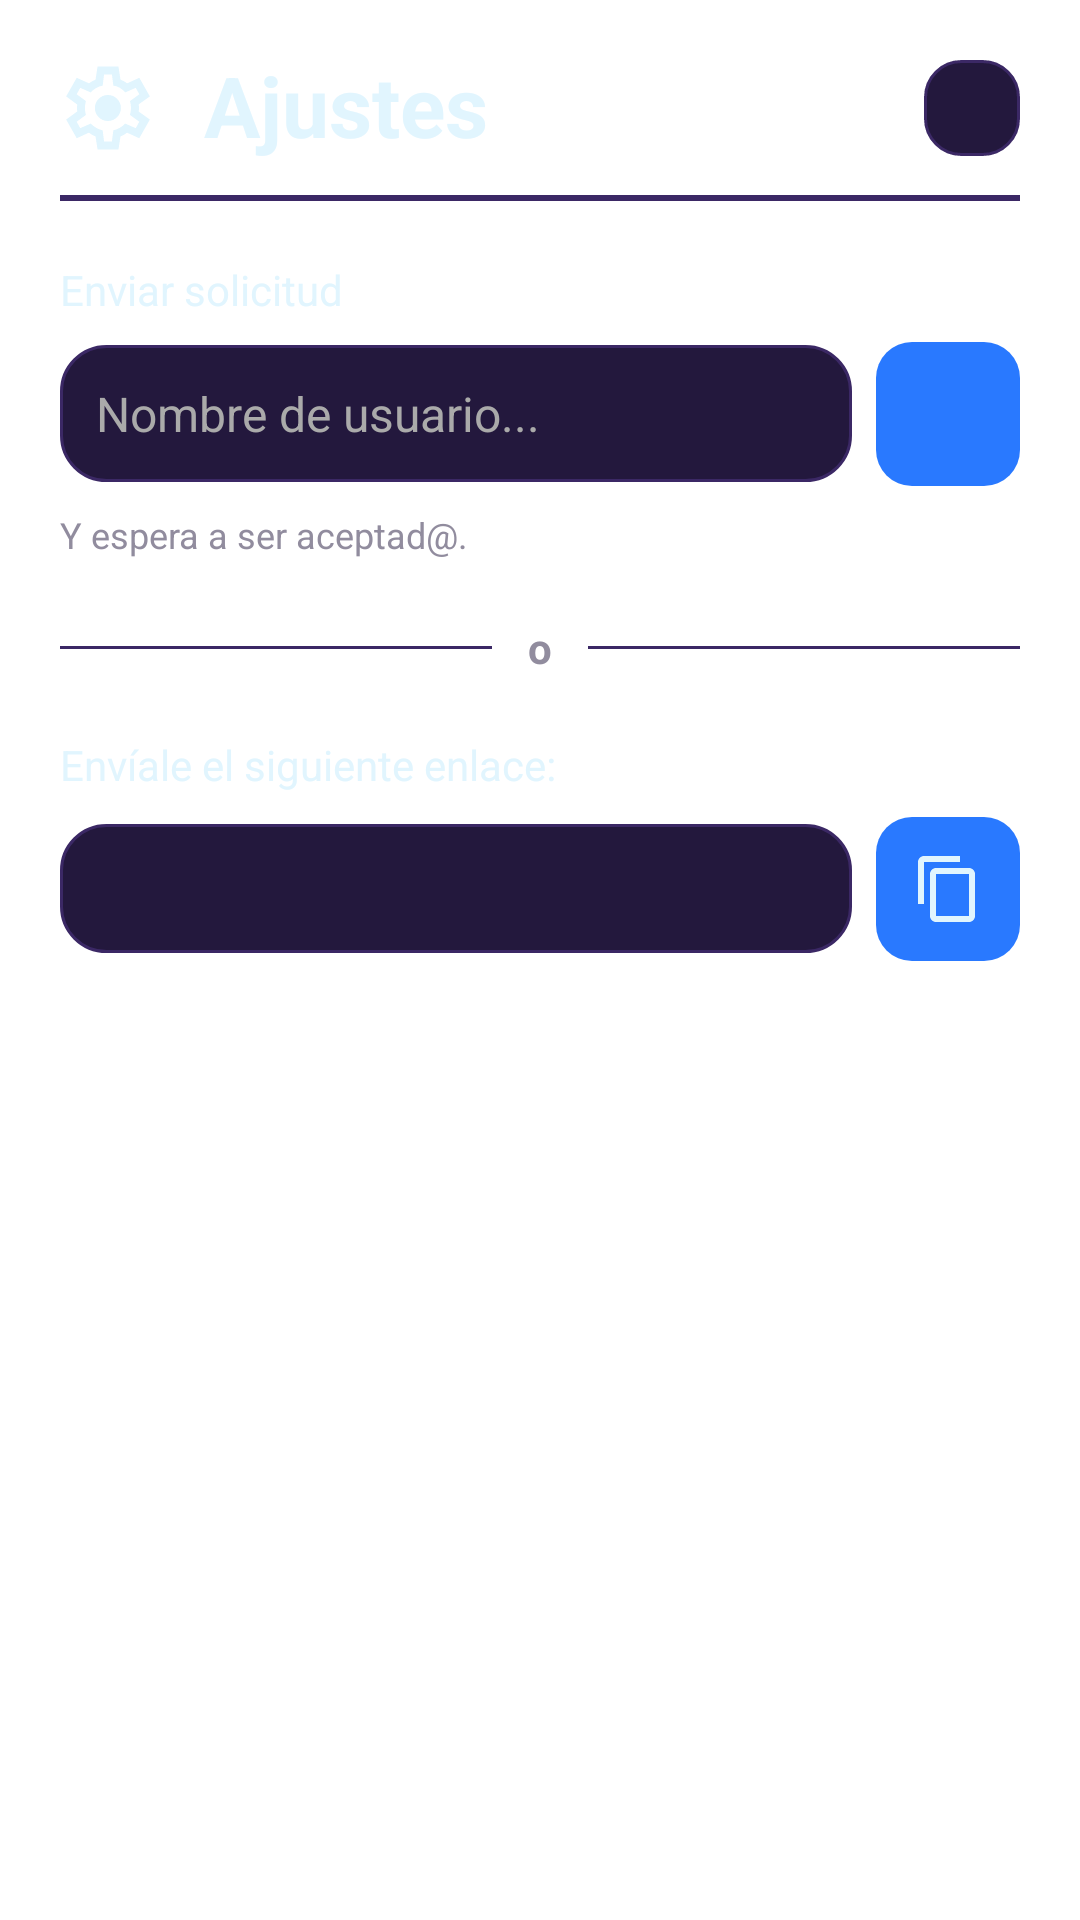

Screen size 1080px×1920px. Icon name, then its box in pixels as (x1, y1, x2, y2):
COPIAR: (876, 817, 1020, 961)
